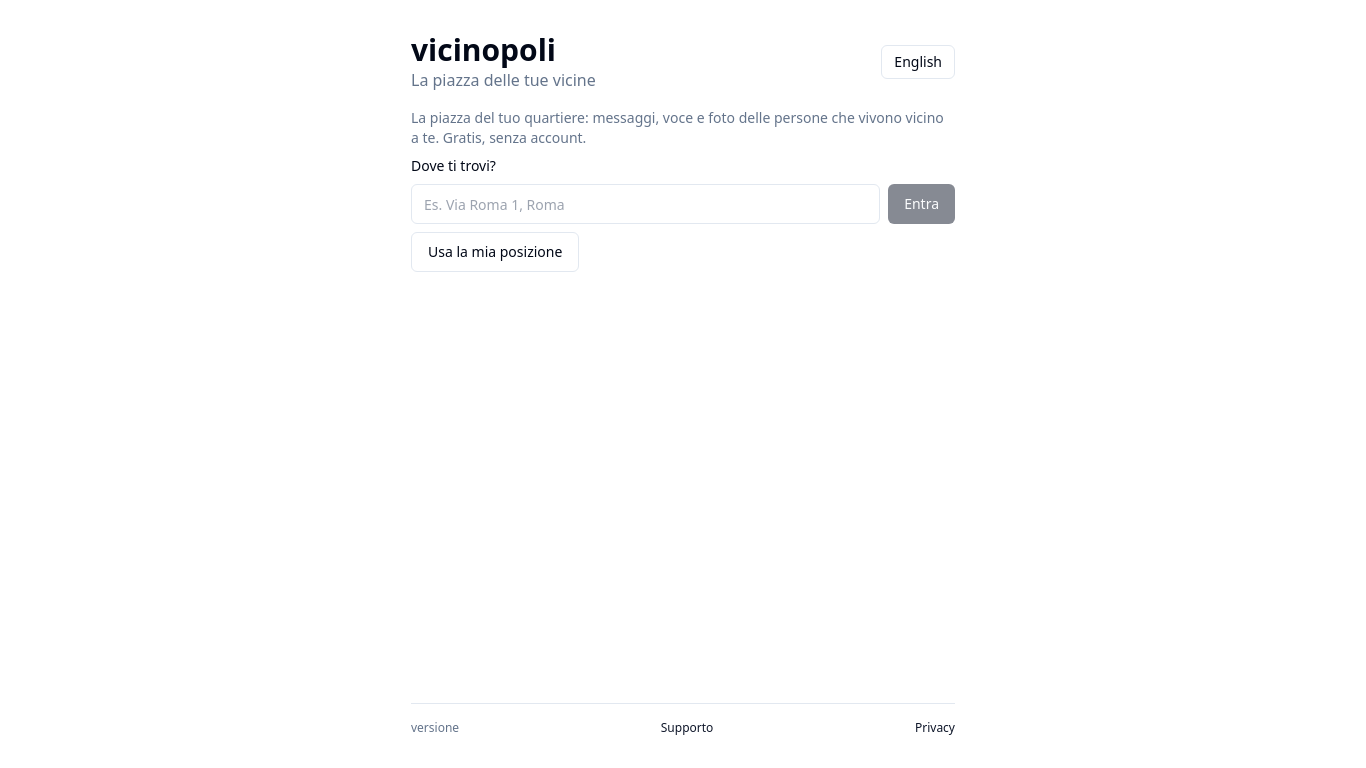
Scenario: App › links to the privacy and cookie policy from the footer
The image size is (1366, 768).
Click the link with test id "footer-privacy".
click(935, 728)  # box [915,720,955,736]
(page scrolled)
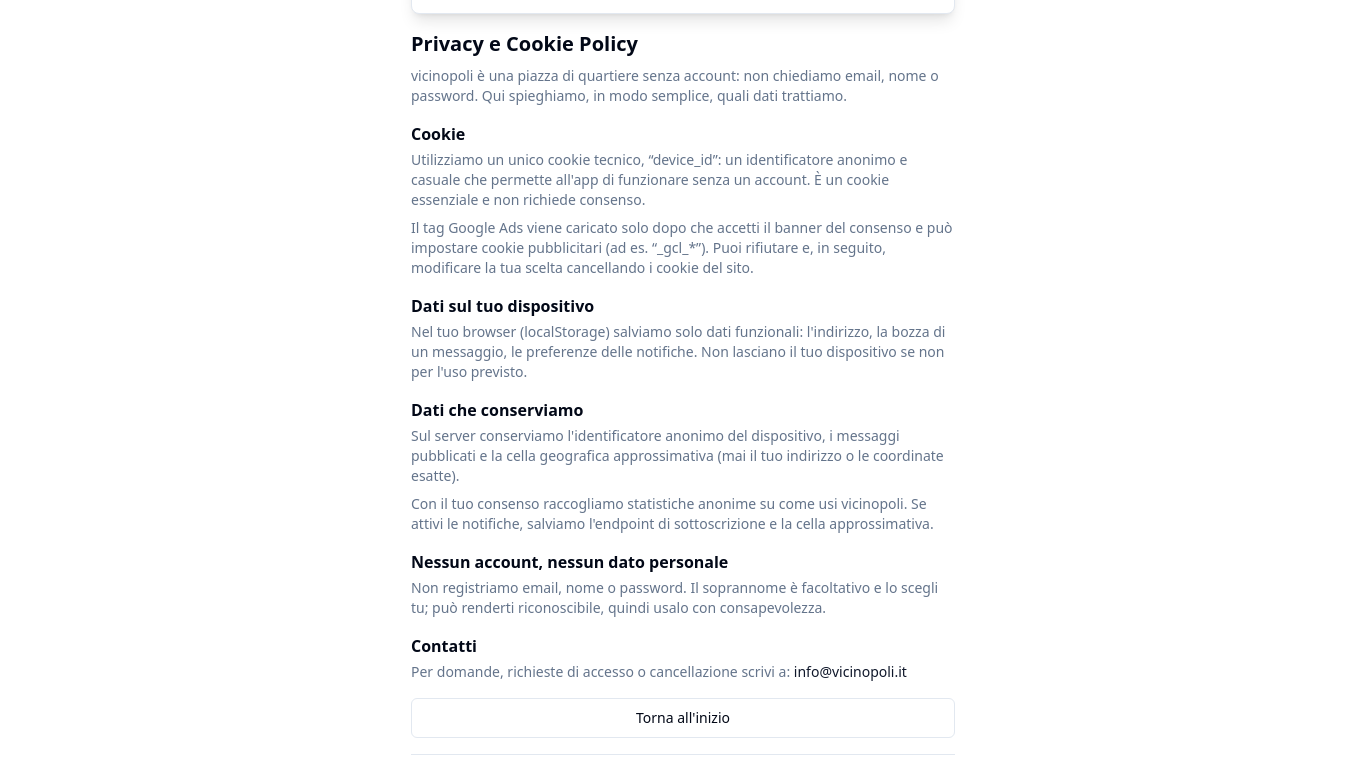
Now the element with test id "privacy-page" is shown, box [411,30,955,738]
